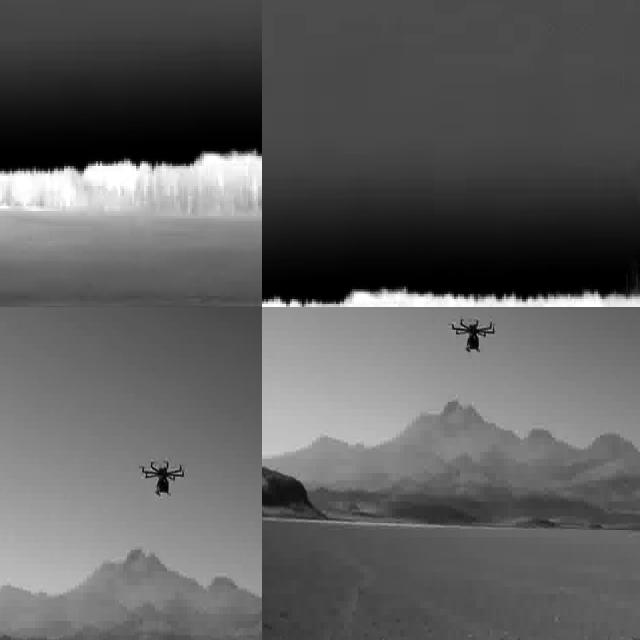drone: (449, 307, 495, 357), (140, 455, 185, 503)
